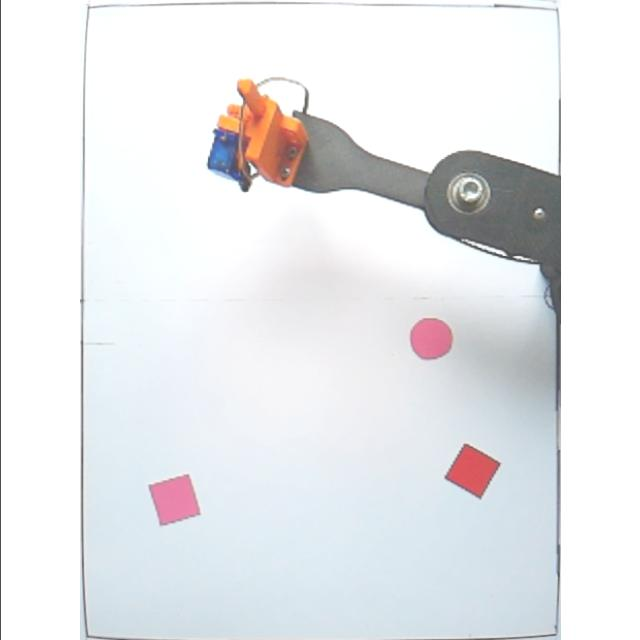pinkCircle: (408, 314, 456, 362)
pinkSquare: (146, 476, 206, 526)
redSquare: (442, 444, 502, 501)
